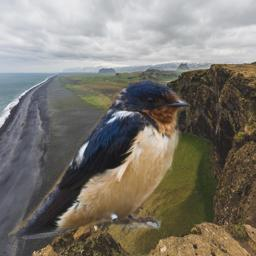Swallow: (8, 78, 192, 240)
